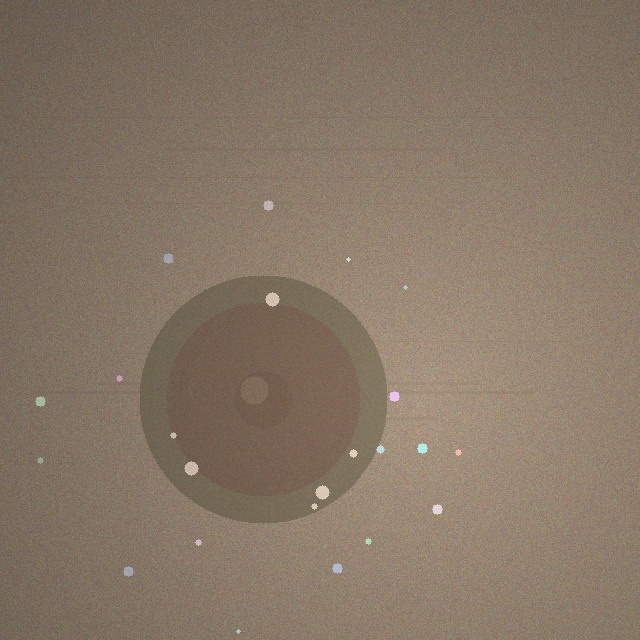overburn: (139, 275, 387, 523)
